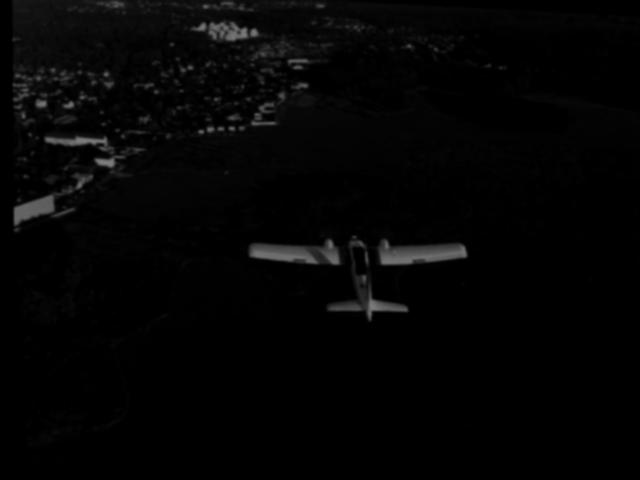hedef: (228, 212, 480, 337)
